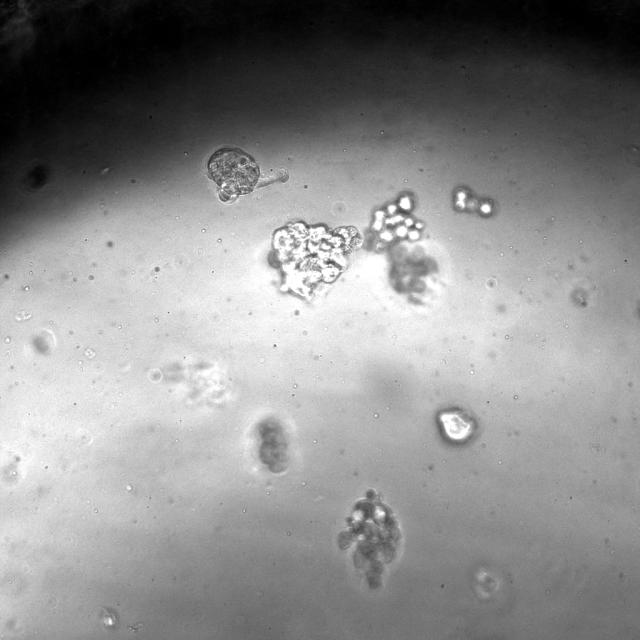organoid: (364, 192, 437, 303), (269, 220, 362, 300), (337, 488, 403, 592), (208, 147, 288, 203), (256, 416, 289, 473), (435, 405, 478, 444), (452, 185, 495, 217)
